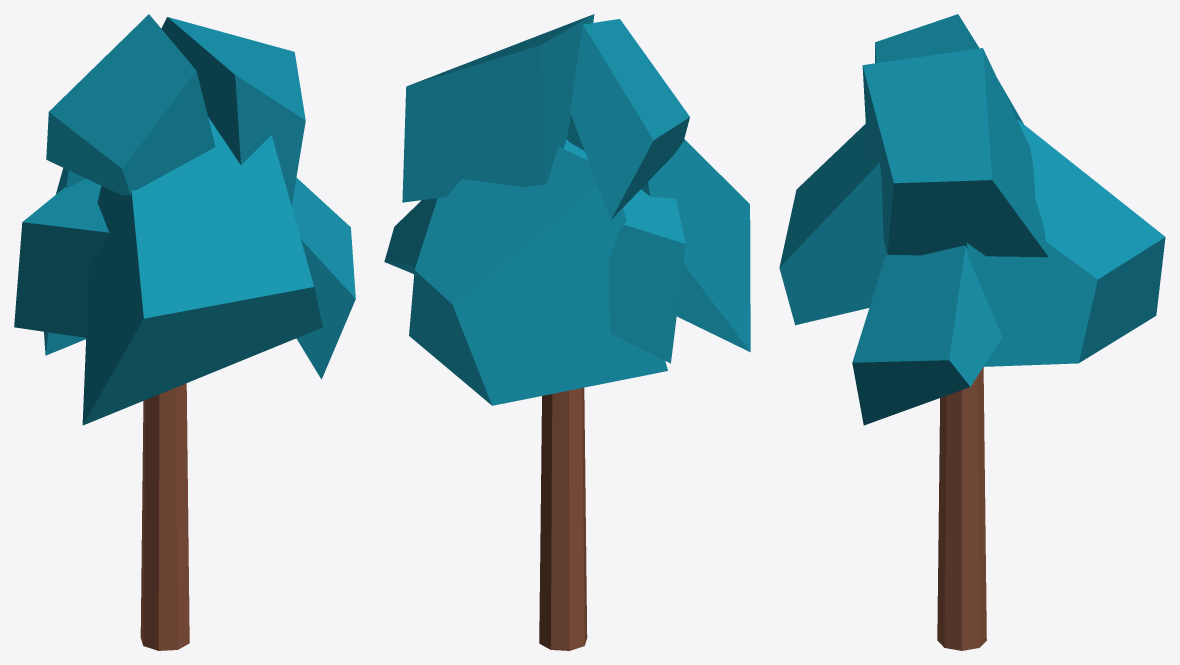
The model's file is Tree_41_summer_blue.fbx.
The picture shows the model from 3 angles, left to right: view 1: azimuth 30°, elevation 25°; view 2: azimuth 150°, elevation 25°; view 3: azimuth 270°, elevation 25°; orthographic projection. The views are drawn at different scales.
Visible parts, largest first — view 1: Tree_41_summer_blue; view 2: Tree_41_summer_blue; view 3: Tree_41_summer_blue.
Part boxes in pixels (x1=…): Tree_41_summer_blue: x1=14, y1=14, x2=355, y2=650; Tree_41_summer_blue: x1=384, y1=14, x2=750, y2=650; Tree_41_summer_blue: x1=779, y1=14, x2=1165, y2=650.
Bounding box in the file's own units: 120 × 229 × 130.
